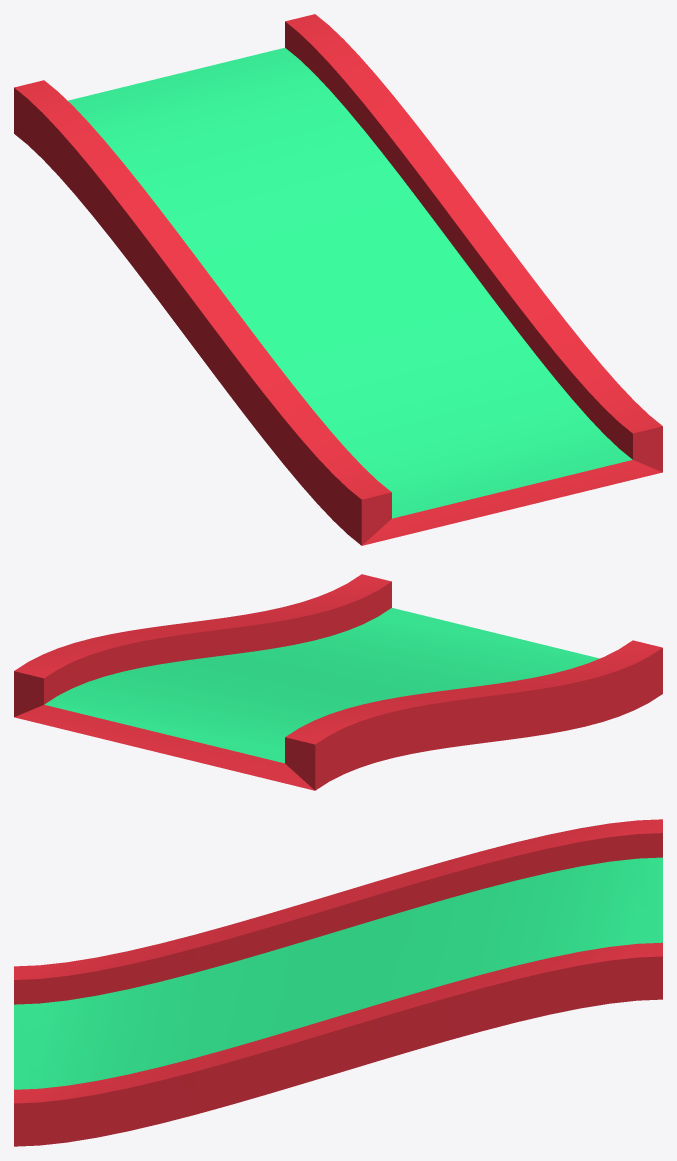
File: rampLarge.fbx
3 views of the same model, one above another, from view 1: azimuth 30°, elevation 25°; view 2: azimuth 150°, elevation 25°; view 3: azimuth 270°, elevation 25° (orthographic). The views are drawn at different scales.
Parts seen in each view (by area): view 1: rampLarge; view 2: rampLarge; view 3: rampLarge.
Part boxes in pixels (box(x1,y1,x2,y2)): rampLarge: box(14, 14, 662, 545); rampLarge: box(14, 574, 662, 790); rampLarge: box(14, 819, 662, 1146).
Bounding box in the file's own units: 99.99 × 200 × 64.67.
